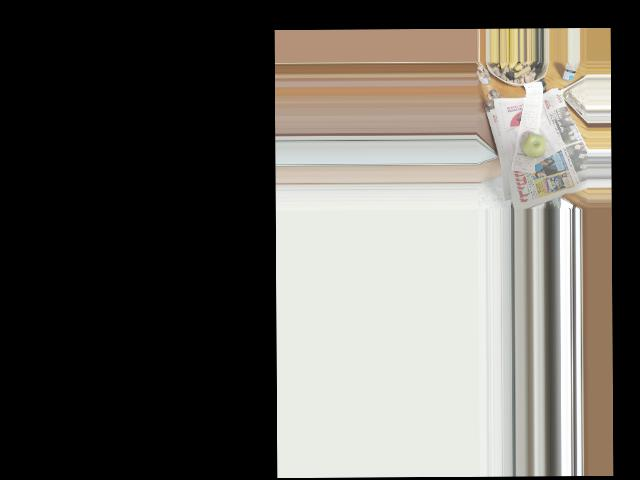apple: (521, 132, 548, 162)
